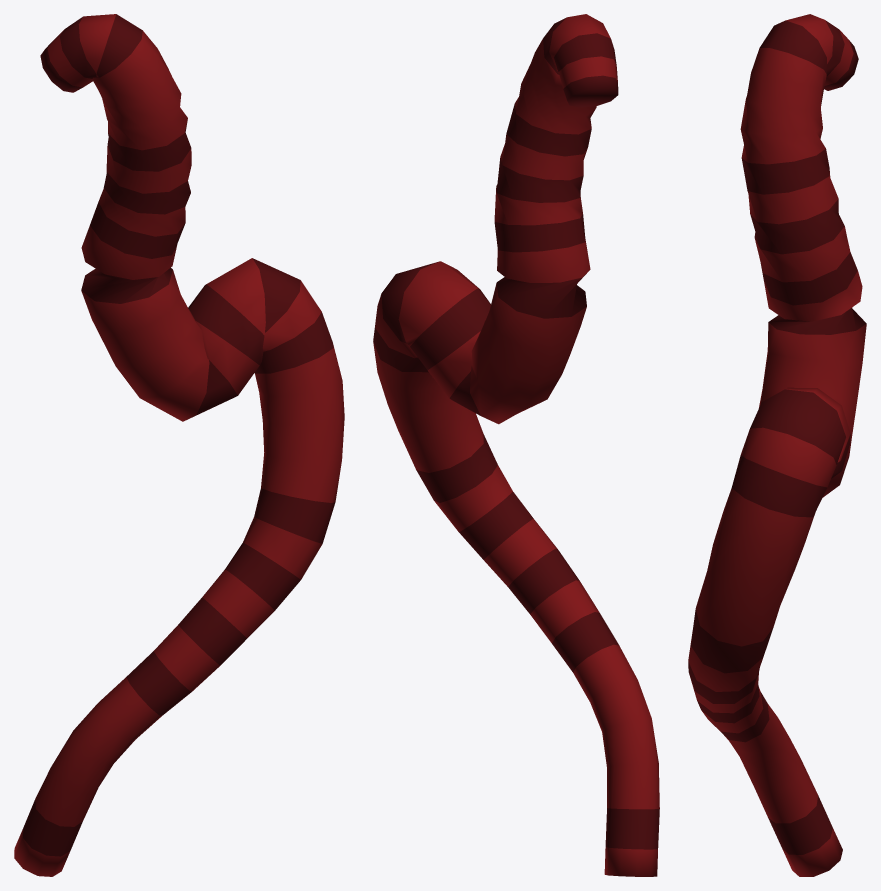
The model's file is SM_Worm.fbx.
3 views of the same model, side by side, from view 1: azimuth 30°, elevation 25°; view 2: azimuth 150°, elevation 25°; view 3: azimuth 270°, elevation 25° (orthographic). The views are drawn at different scales.
Parts seen in each view (by area): view 1: SM_Worm; view 2: SM_Worm; view 3: SM_Worm.
Part boxes in pixels (box(x1,y1,x2,y2)): SM_Worm: box(14, 14, 344, 876); SM_Worm: box(373, 14, 659, 876); SM_Worm: box(688, 14, 866, 876).
Size of the model in its own units: 2 by 1 by 5.43.
